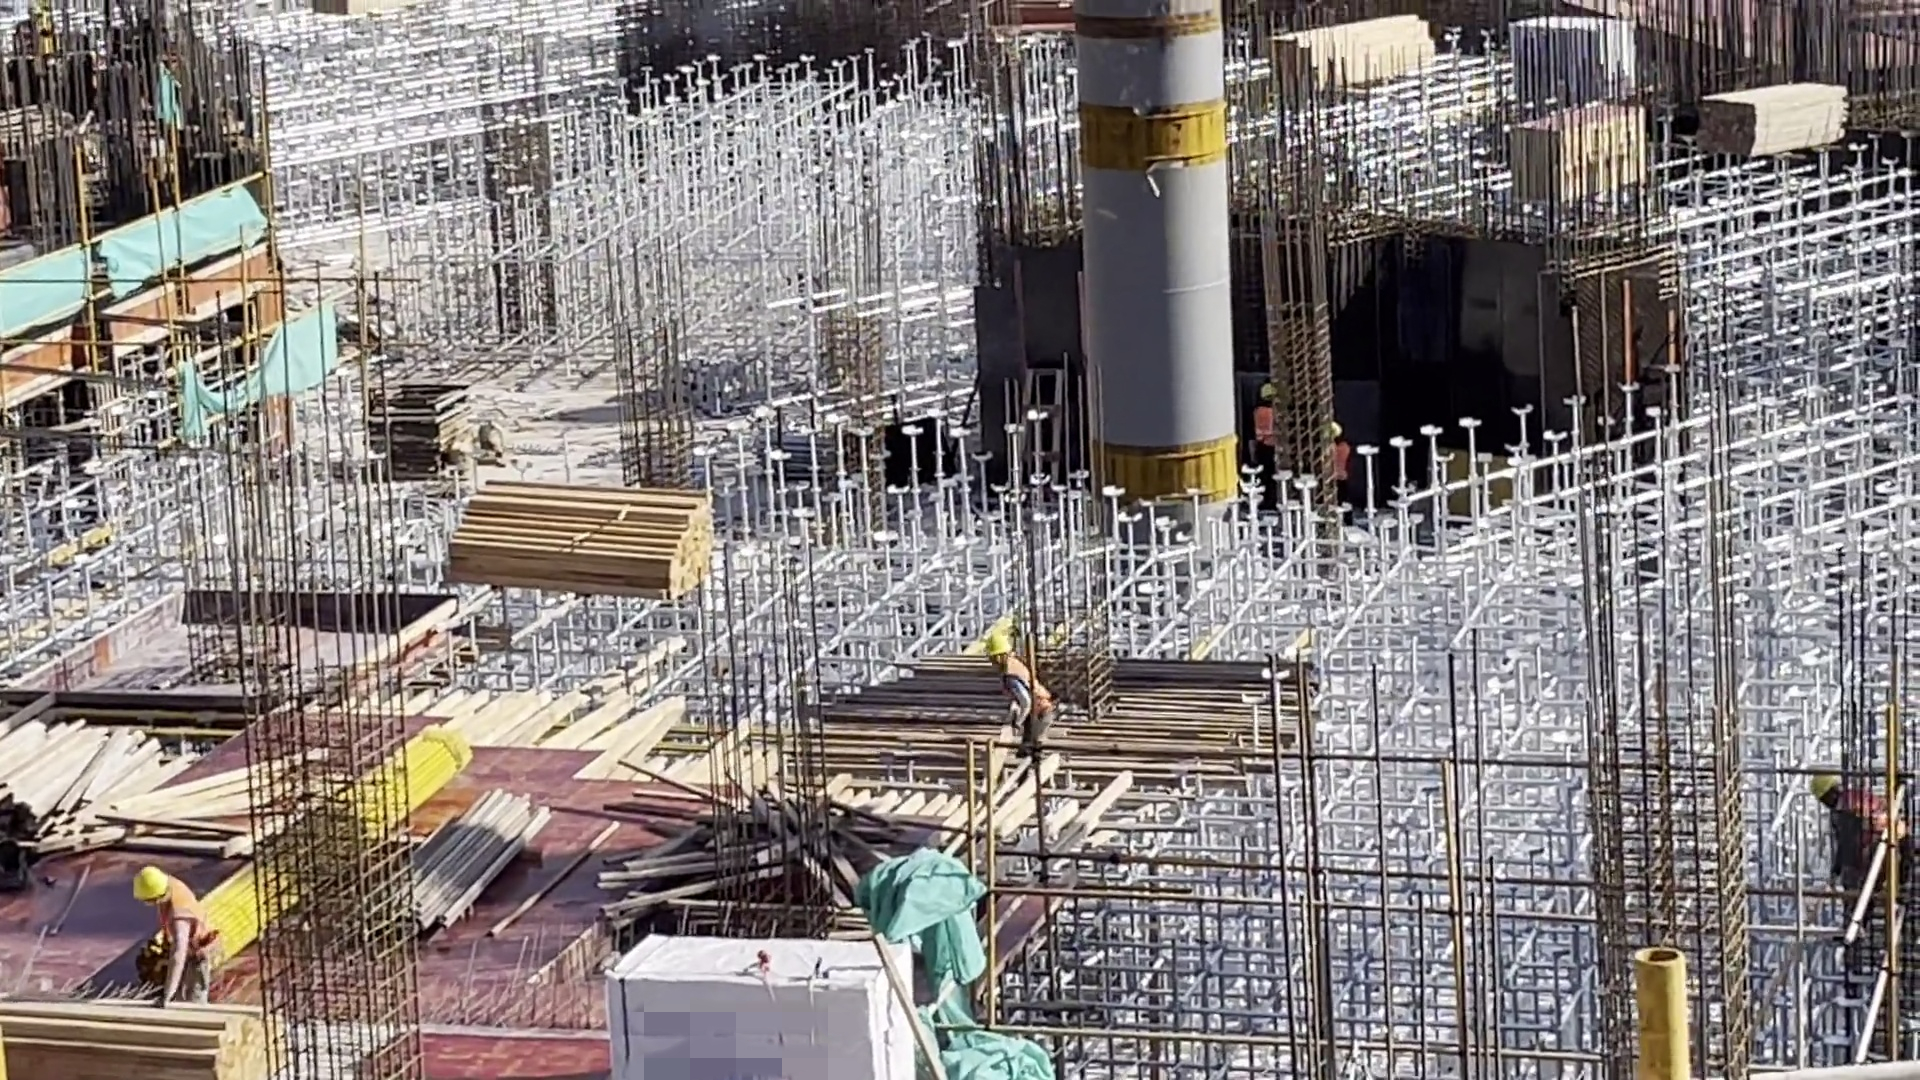helmet: (130, 862, 178, 913), (982, 630, 1011, 662), (1327, 421, 1348, 443), (1259, 381, 1281, 401)
person: (125, 851, 219, 1020), (970, 624, 1059, 779), (1318, 418, 1368, 519), (1251, 379, 1297, 477)
vest: (994, 656, 1064, 735), (158, 885, 217, 957), (1253, 401, 1283, 454), (1329, 441, 1352, 492)
